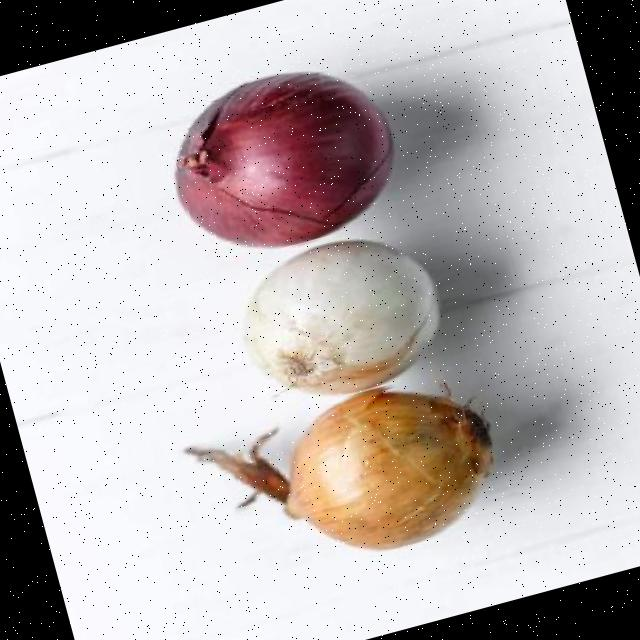Onion: (174, 71, 393, 245), (286, 387, 494, 547), (244, 238, 441, 392)
